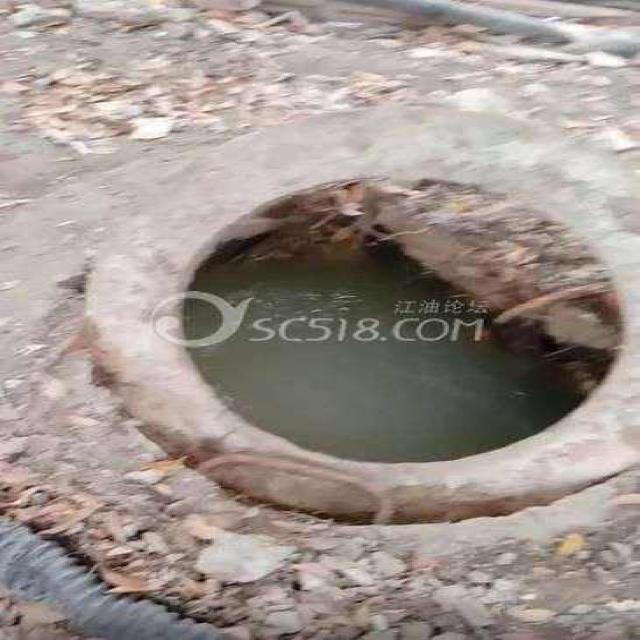manhole-cover: (94, 149, 639, 528)
